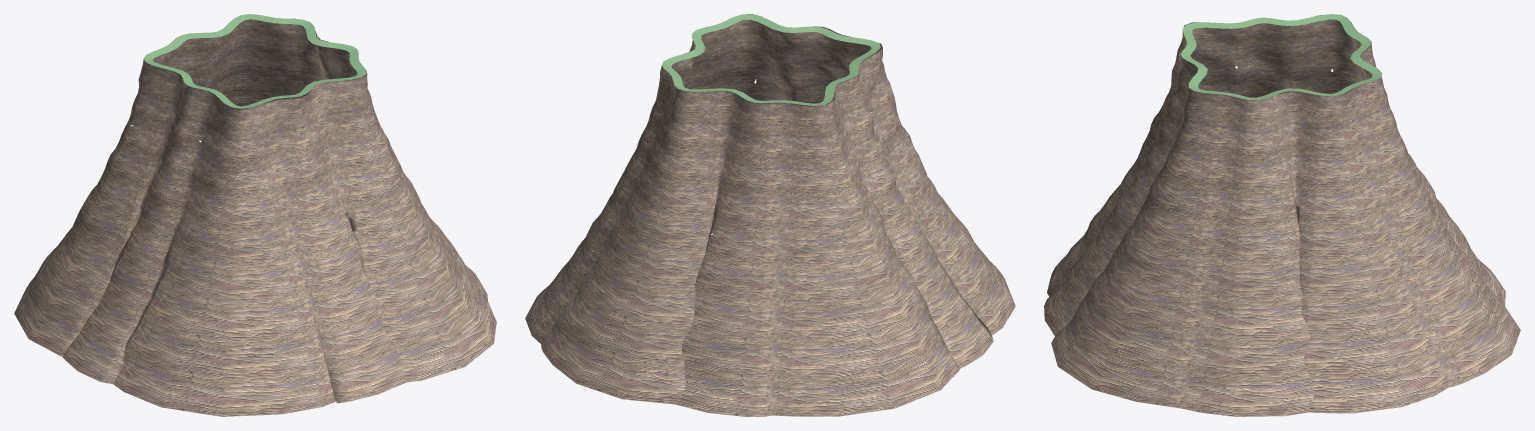
The model's file is CliffWall_stack_09.glb.
3 views of the same model, side by side, from view 1: azimuth 30°, elevation 25°; view 2: azimuth 150°, elevation 25°; view 3: azimuth 270°, elevation 25° (orthographic). The views are drawn at different scales.
Parts seen in each view (by area): view 1: CliffWall_stack_09-rock0, CliffWall_stack_09-lip0; view 2: CliffWall_stack_09-rock0, CliffWall_stack_09-lip0; view 3: CliffWall_stack_09-rock0, CliffWall_stack_09-lip0.
Boxes of the visible parts, x1,y1,x2,y2 form: CliffWall_stack_09-rock0: [14, 18, 496, 416]; CliffWall_stack_09-lip0: [143, 14, 366, 108]; CliffWall_stack_09-rock0: [525, 14, 1015, 416]; CliffWall_stack_09-lip0: [662, 14, 880, 105]; CliffWall_stack_09-rock0: [1044, 15, 1520, 416]; CliffWall_stack_09-lip0: [1181, 14, 1382, 99].
Bounding box in the file's own units: 435 × 263 × 438.
Materials: 4 (1 with a texture image).
